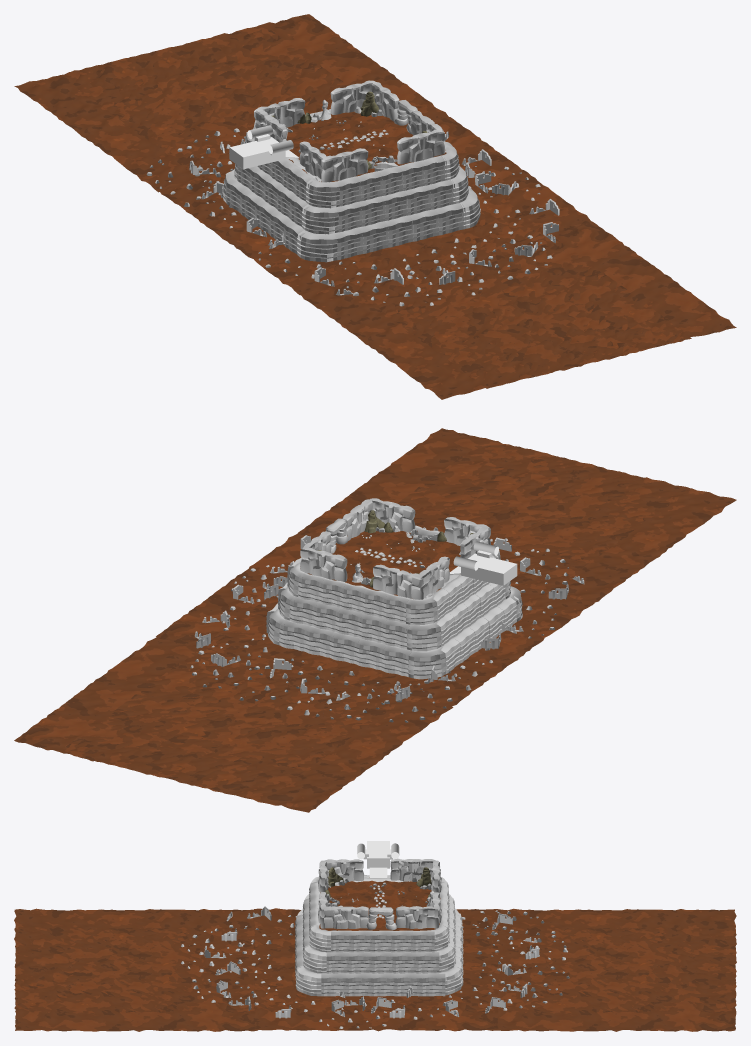
The model's file is lvl1Initial_v6.FBX.
The picture shows the model from 3 angles, top to bottom: view 1: azimuth 30°, elevation 25°; view 2: azimuth 150°, elevation 25°; view 3: azimuth 270°, elevation 25°; orthographic projection. The views are drawn at different scales.
Parts seen in each view (by area): view 1: Floor, level1_wall006, Wall_Cap, Plane074, Stone249, ruined_wall013, Box093, ruined_wall012, Stones; view 2: Floor, level1_wall006, Wall_Cap, Plane074, Stone249, ruined_wall012, Box093, ruined_wall013, Stones; view 3: Floor, level1_wall006, Wall_Cap, Plane074, Stone249, ruined_wall013, ruined_wall012, Box093, Stones, Arc, GigaRock001.
Part boxes in pixels (x1=…): Floor: x1=14, y1=14, x2=736, y2=399; level1_wall006: x1=222, y1=109, x2=480, y2=262; Wall_Cap: x1=254, y1=80, x2=444, y2=182; Plane074: x1=286, y1=111, x2=446, y2=181; Stone249: x1=146, y1=128, x2=552, y2=306; ruined_wall013: x1=269, y1=163, x2=559, y2=295; Box093: x1=229, y1=125, x2=298, y2=169; ruined_wall012: x1=189, y1=127, x2=491, y2=245; Stones: x1=283, y1=106, x2=397, y2=168; Floor: x1=14, y1=428, x2=736, y2=812; level1_wall006: x1=266, y1=525, x2=522, y2=679; Wall_Cap: x1=300, y1=498, x2=490, y2=599; Plane074: x1=308, y1=531, x2=460, y2=595; Stone249: x1=190, y1=527, x2=568, y2=722; ruined_wall012: x1=194, y1=576, x2=516, y2=701; Box093: x1=450, y1=541, x2=517, y2=585; ruined_wall013: x1=262, y1=535, x2=584, y2=631; Stones: x1=350, y1=525, x2=461, y2=584; Floor: x1=14, y1=908, x2=736, y2=1031; level1_wall006: x1=295, y1=874, x2=463, y2=996; Wall_Cap: x1=318, y1=858, x2=441, y2=928; Plane074: x1=319, y1=877, x2=440, y2=930; Stone249: x1=181, y1=908, x2=569, y2=1028; ruined_wall013: x1=204, y1=906, x2=412, y2=1018; ruined_wall012: x1=335, y1=913, x2=539, y2=1018; Box093: x1=357, y1=841, x2=399, y2=878; Stones: x1=327, y1=877, x2=431, y2=918; Arc: x1=366, y1=907, x2=396, y2=929; GigaRock001: x1=328, y1=867, x2=431, y2=886.
Bounding box in the file's own units: 2109 × 655 × 5268.
